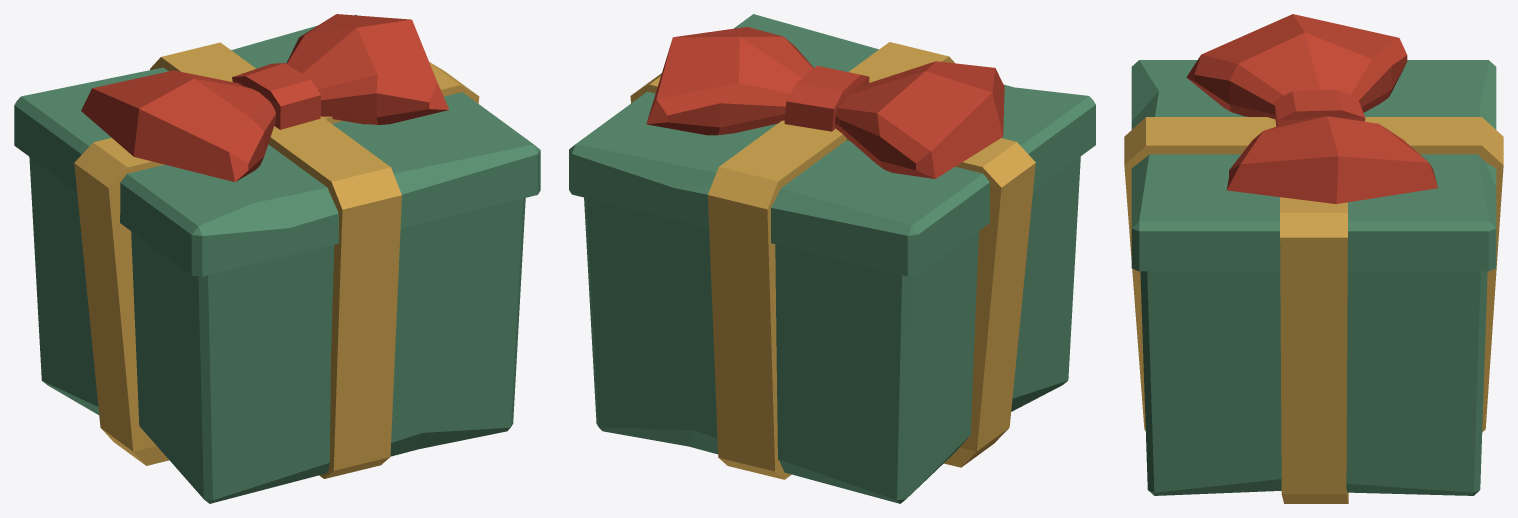
File: SM_Prop_Xmas_Present_02.glb
3 renders of one model, left to right at view 1: azimuth 30°, elevation 25°; view 2: azimuth 150°, elevation 25°; view 3: azimuth 270°, elevation 25°, orthographic.
Parts seen in each view (by area): view 1: SM_Prop_Xmas_Present_02; view 2: SM_Prop_Xmas_Present_02; view 3: SM_Prop_Xmas_Present_02.
Part boxes in pixels (left/top/right/bottom): SM_Prop_Xmas_Present_02: left=14, top=14, right=540, bottom=503; SM_Prop_Xmas_Present_02: left=569, top=14, right=1095, bottom=503; SM_Prop_Xmas_Present_02: left=1124, top=14, right=1503, bottom=503.
Bounding box in the file's own units: 0.4861 × 0.4581 × 0.4372.
1 material, 1 textured.
